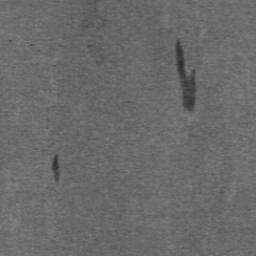Iron scale compression: (176, 39, 196, 109), (53, 155, 59, 181)
